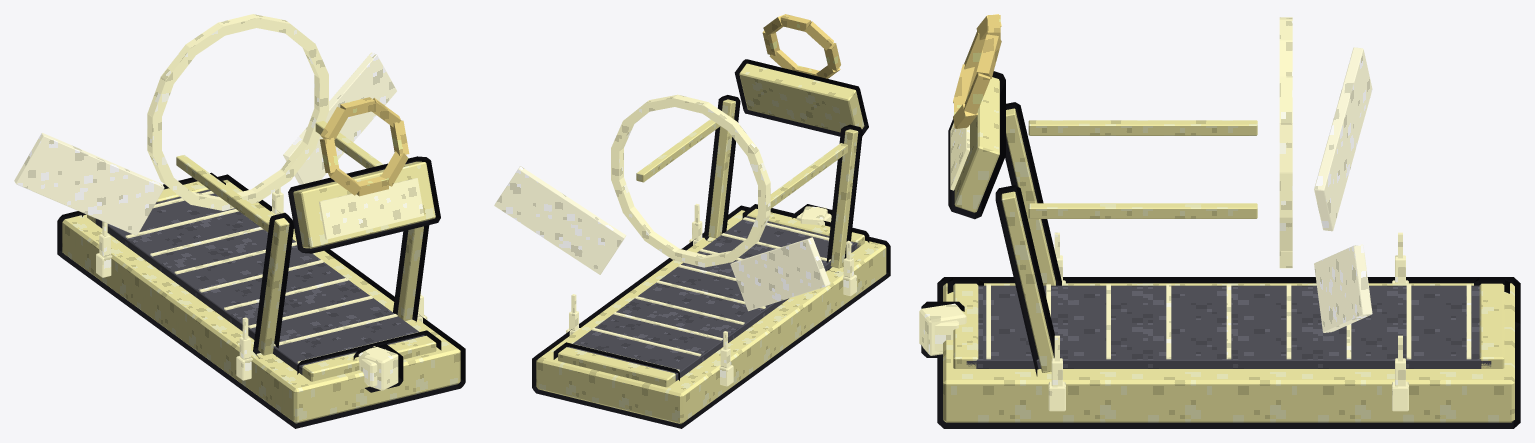
File: treadmill_17.glb
3 renders of one model, left to right at view 1: azimuth 30°, elevation 25°; view 2: azimuth 150°, elevation 25°; view 3: azimuth 270°, elevation 25°, orthographic. The views are drawn at different scales.
Visible parts, largest first — view 1: model; view 2: model; view 3: model.
Part boxes in pixels (bbox=[...]): model: bbox=[14, 14, 465, 428]; model: bbox=[494, 14, 890, 428]; model: bbox=[919, 14, 1520, 428].
Size of the model in its own units: 2.74 by 2 by 3.06.
6 materials, 5 textured.
